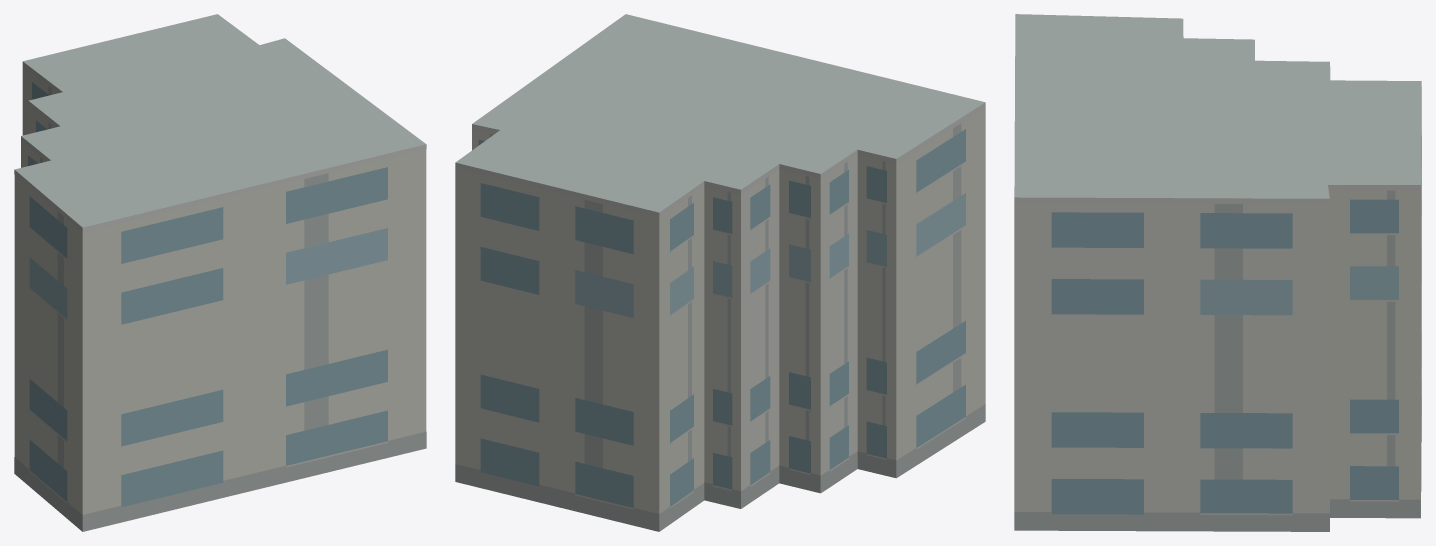
File: survey-upis-32972441.glb
3 views of the same model, side by side, from view 1: azimuth 30°, elevation 25°; view 2: azimuth 150°, elevation 25°; view 3: azimuth 270°, elevation 25° (orthographic). The views are drawn at different scales.
Visible parts, largest first — view 1: survey-upis-32972441.tmp; view 2: survey-upis-32972441.tmp; view 3: survey-upis-32972441.tmp.
Boxes of the visible parts, left/top/right/bottom form: survey-upis-32972441.tmp: left=14, top=14, right=426, bottom=531; survey-upis-32972441.tmp: left=455, top=14, right=985, bottom=531; survey-upis-32972441.tmp: left=1014, top=14, right=1421, bottom=531.
Bounding box in the file's own units: 17.14 × 14.4 × 15.97.
